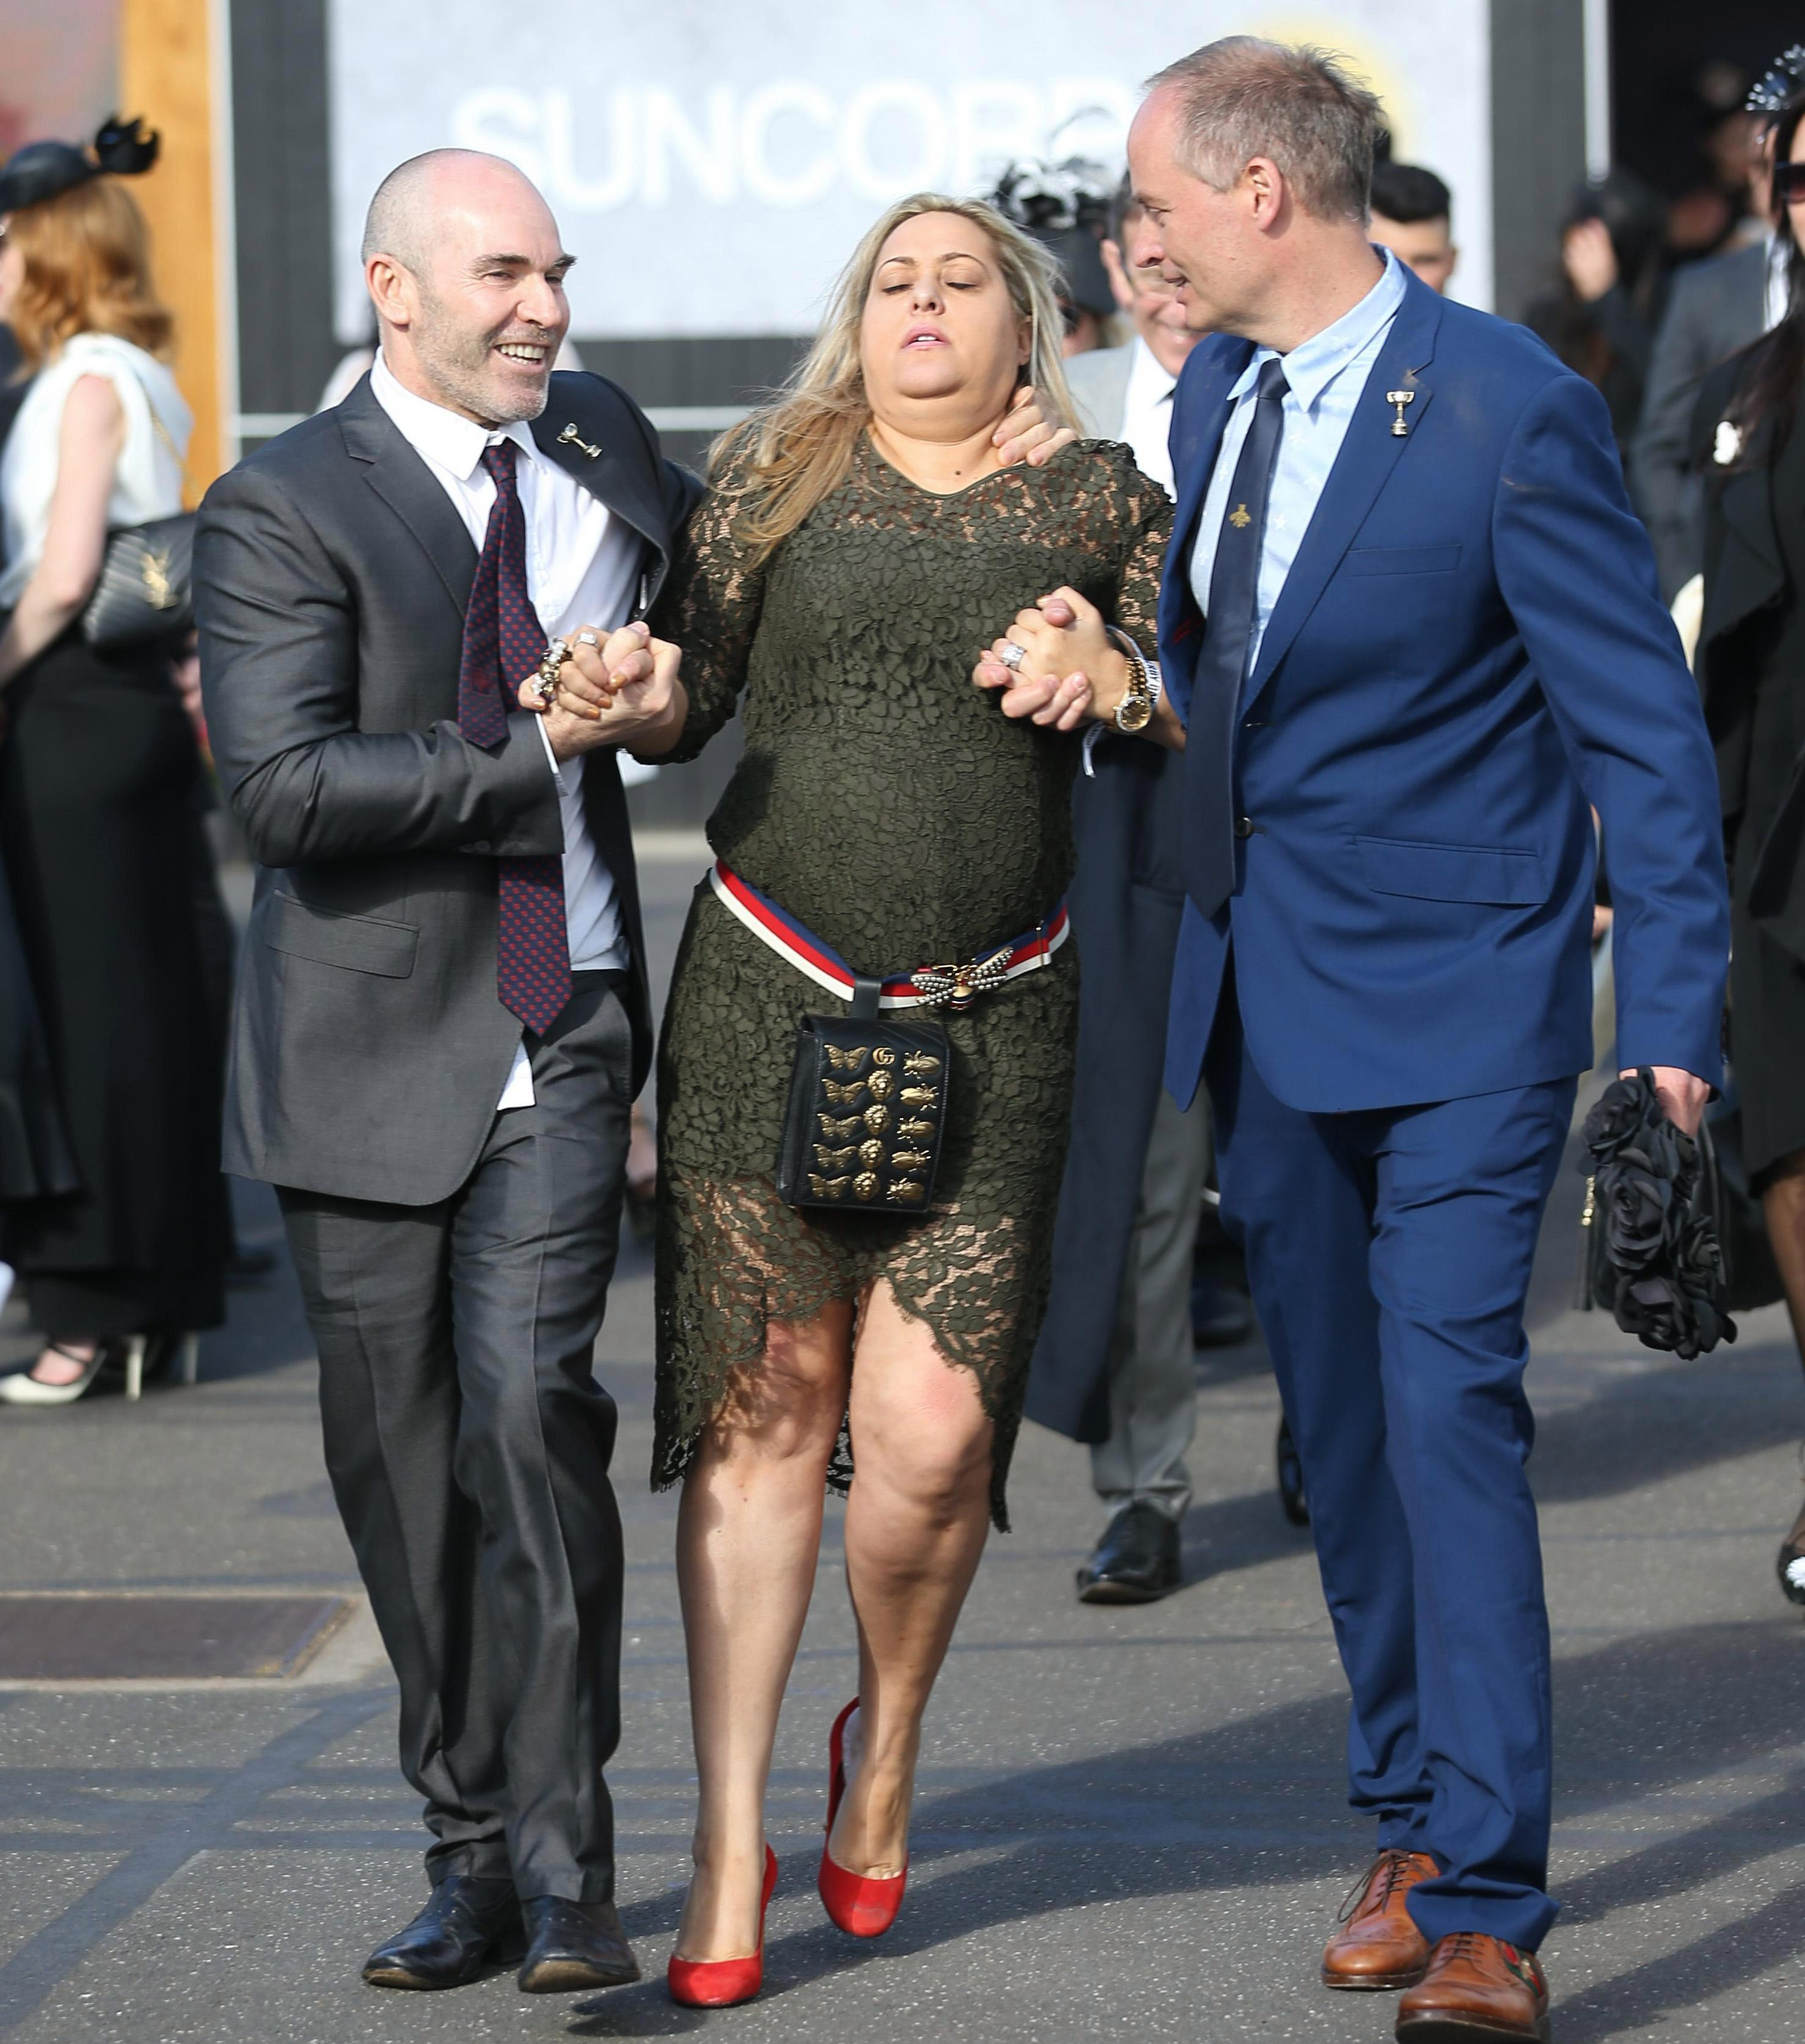Person: (1126, 34, 1728, 2043), (640, 192, 1124, 2007), (200, 147, 640, 1991), (4, 115, 196, 1396)
